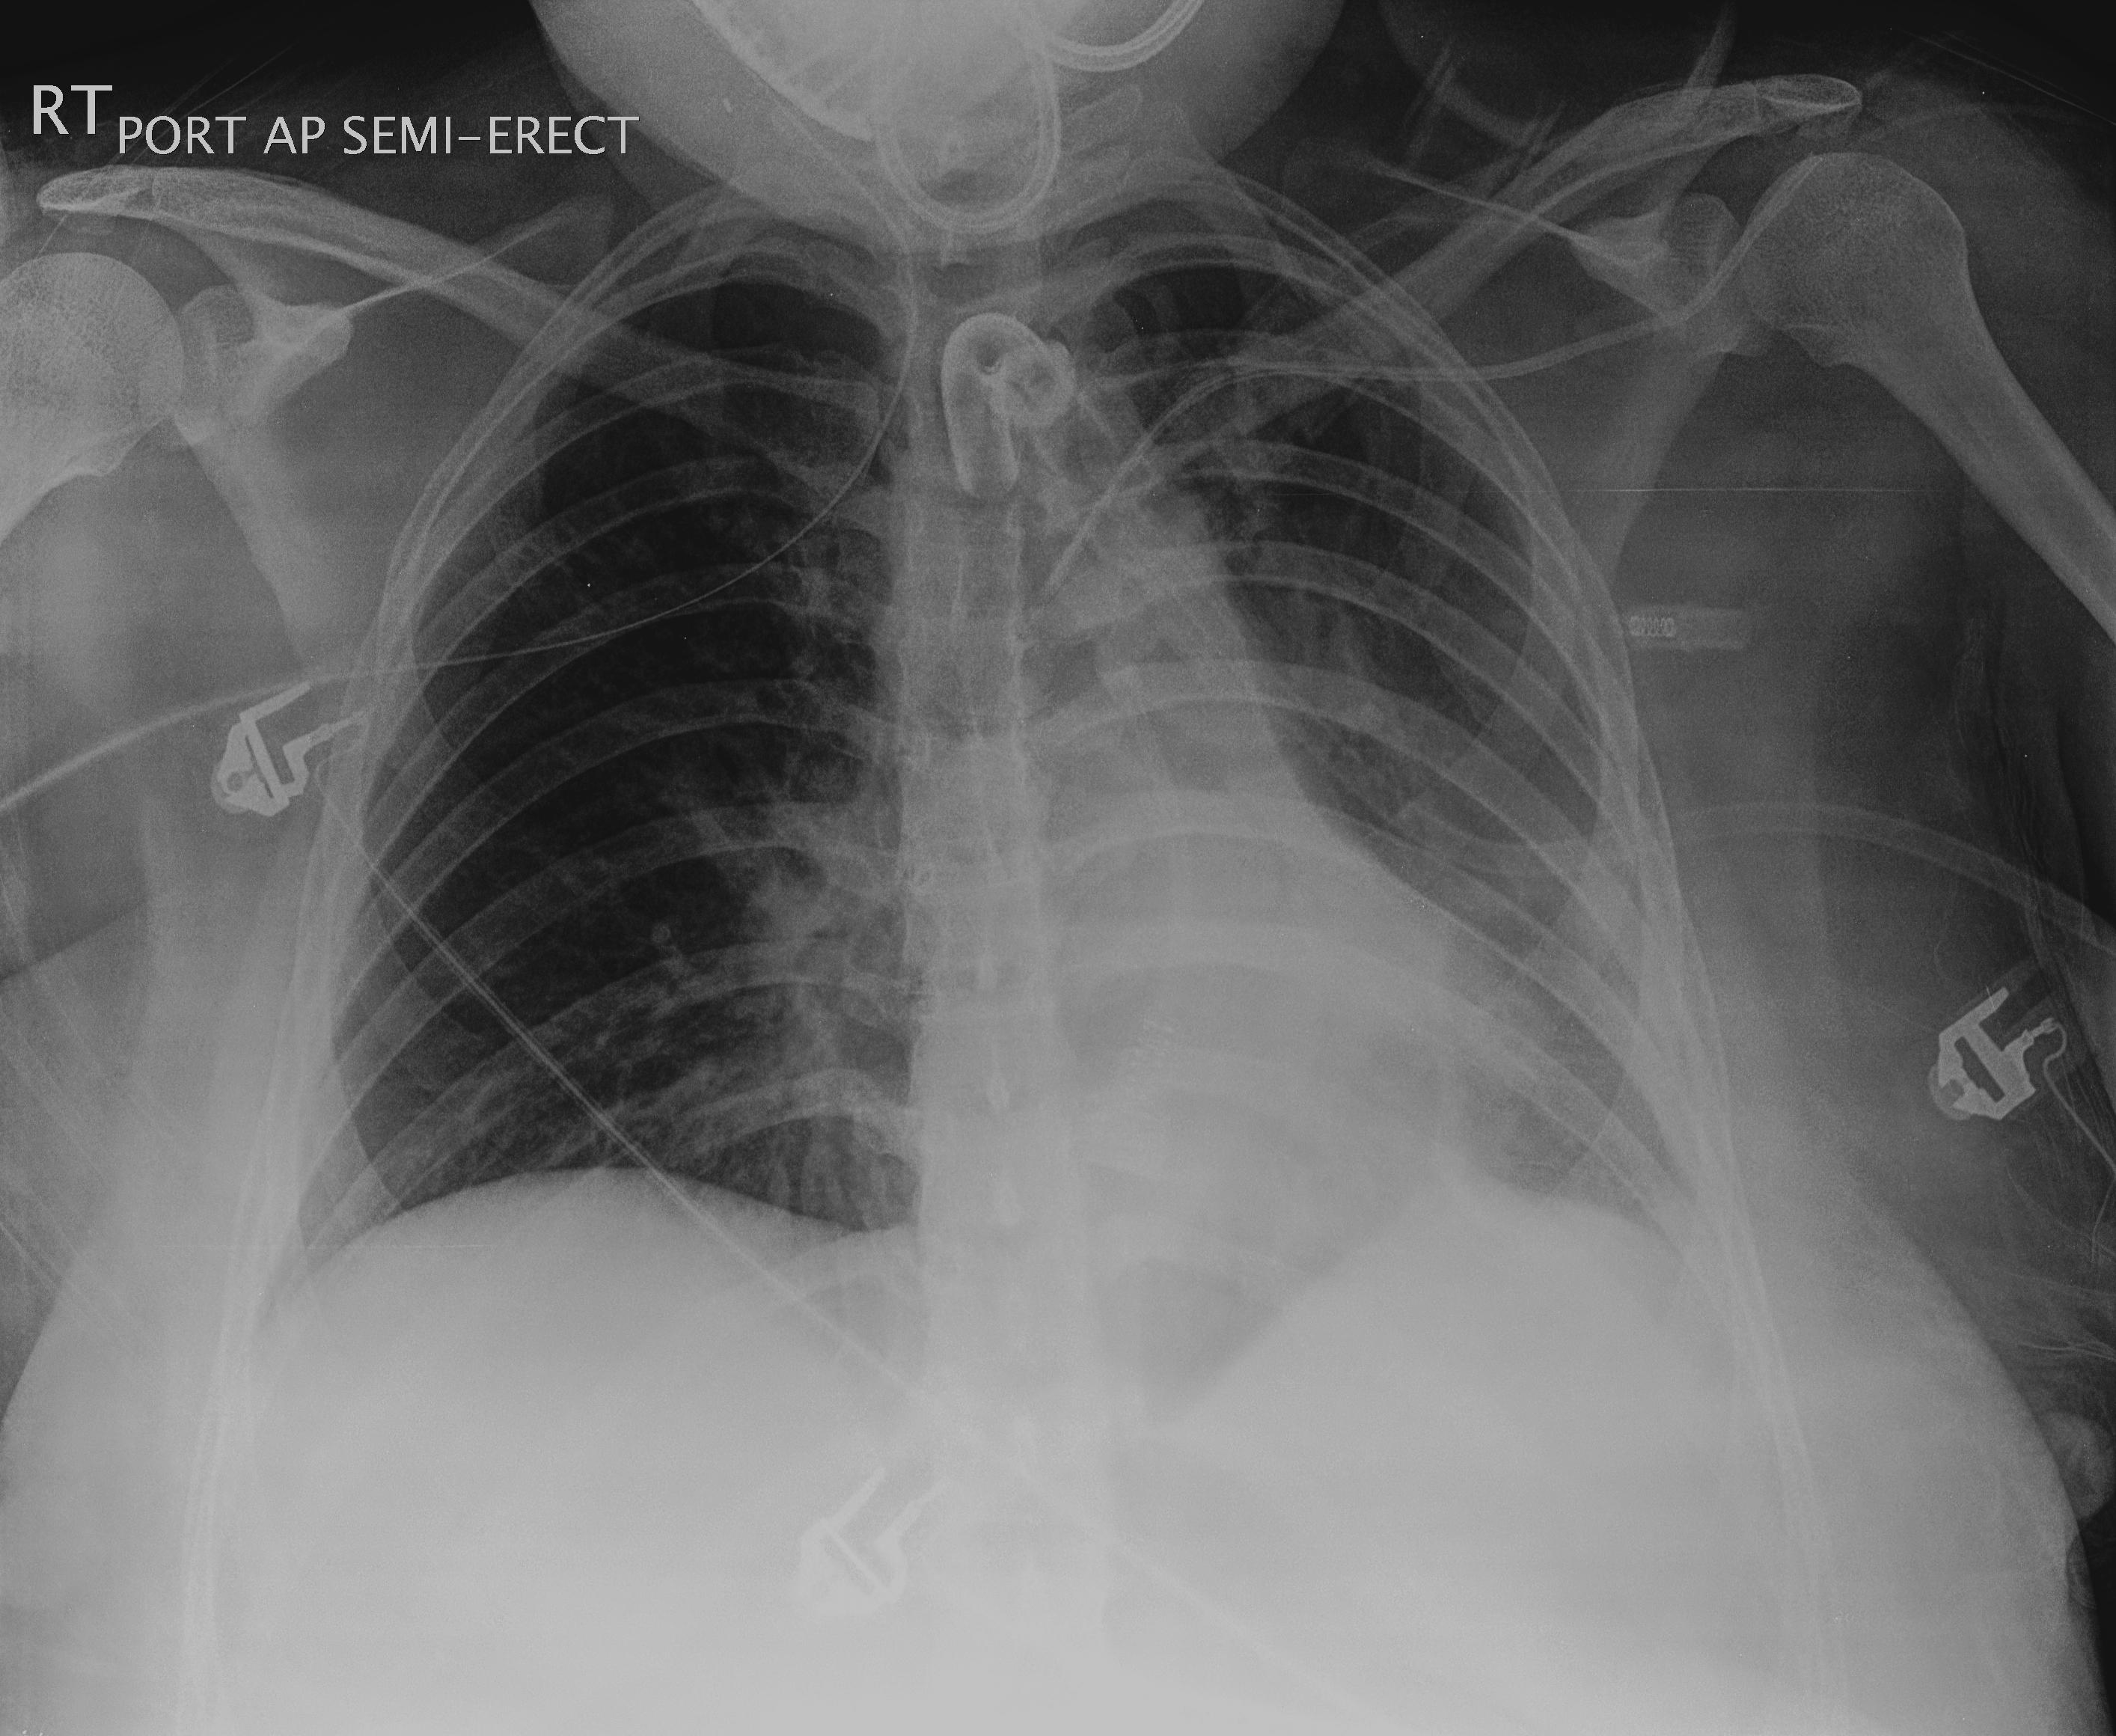Pleural Effusion: (1411, 1003, 1745, 1414)
